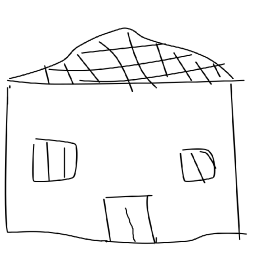big_house: (1, 1, 258, 260)
closed_window: (22, 133, 93, 189), (172, 137, 221, 193)
door: (99, 187, 161, 247)
roof: (4, 20, 251, 96)
wall: (0, 75, 245, 247)
